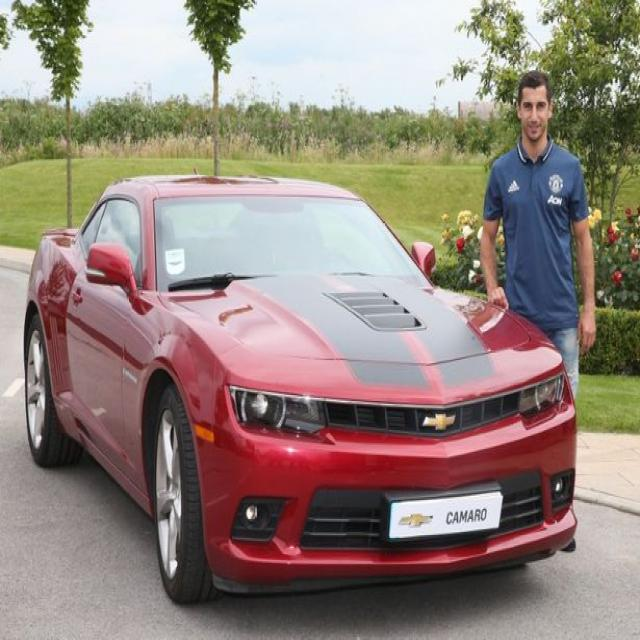Adidas: (505, 175, 525, 198)
Chevrolet: (421, 409, 462, 438), (399, 507, 432, 534)
